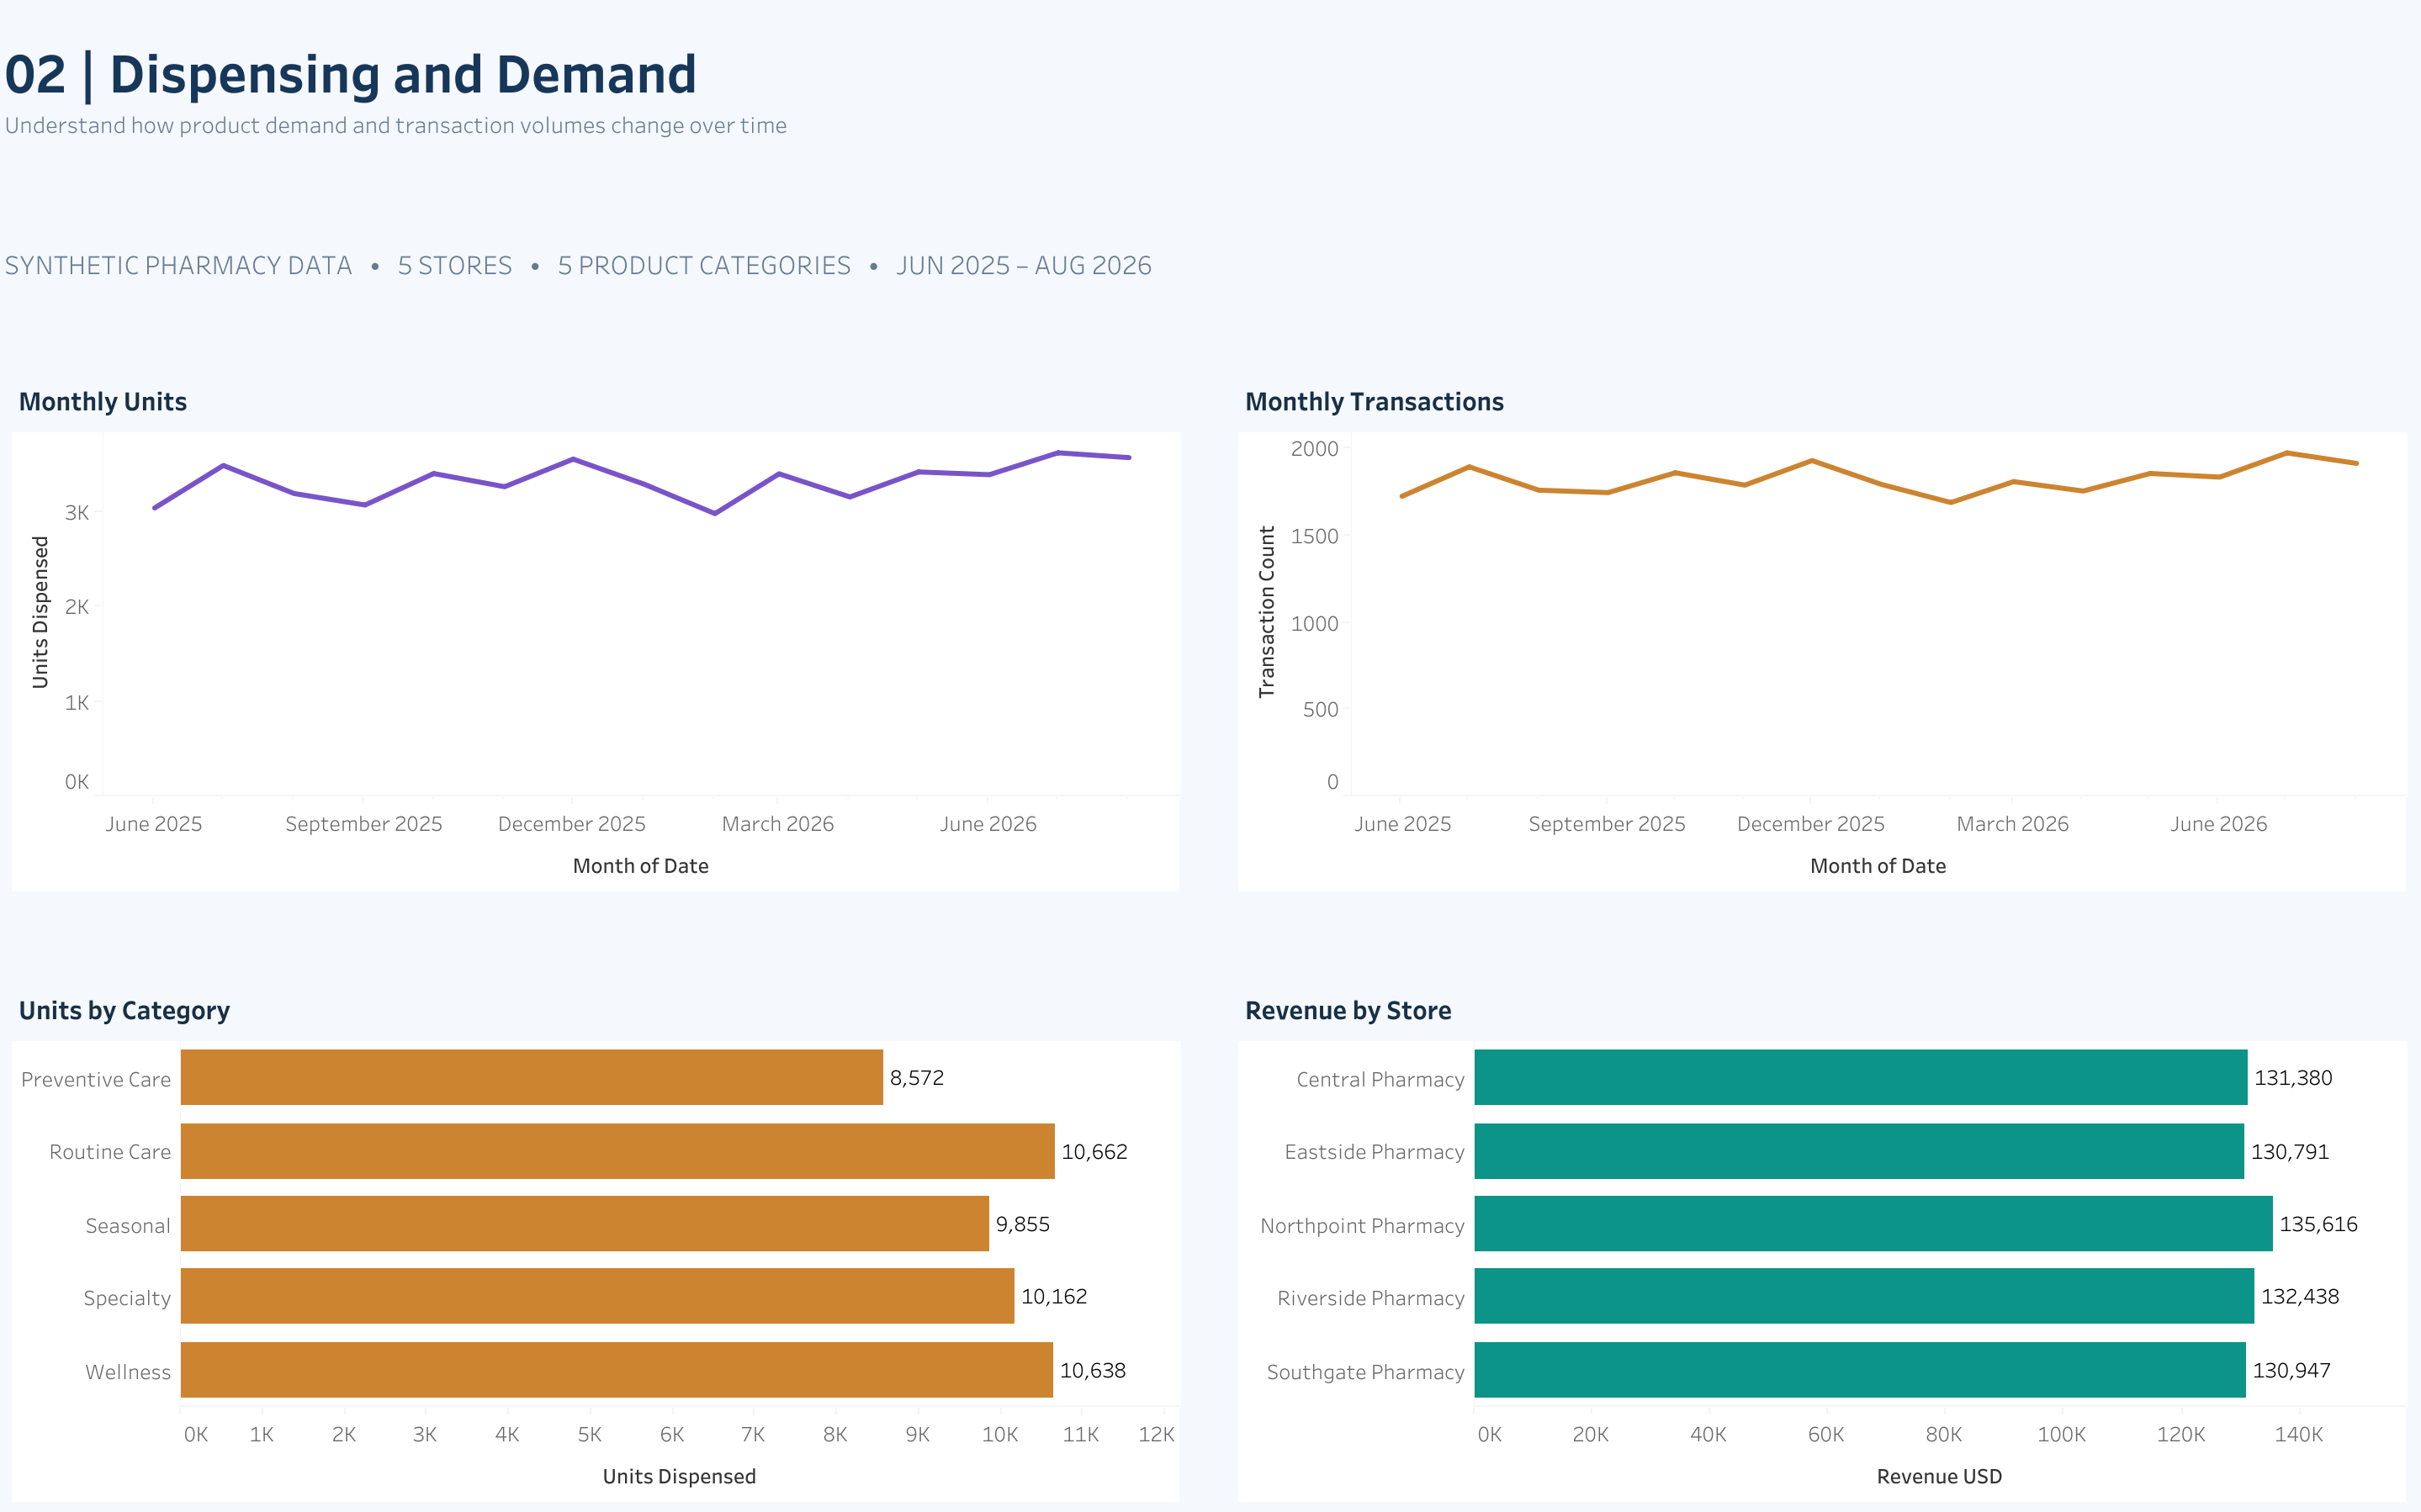

What the dashboard file says about the page in this screenshot:
{"tool":"tableau","page":{"name":"02 | Dispensing and Demand","canvas":[1440,900],"ordinal":1},"visuals":[{"type":"text","box":[0,0,1437,102.9]},{"type":"text","box":[0,130.4,1440,53.9]},{"type":"worksheet","title":"Trend | Monthly Units","mark":"Line","rows":["UnitsDispensed"],"cols":["Date"],"box":[0,213.7,708,323.5]},{"type":"worksheet","title":"Trend | Monthly Transactions","mark":"Line","rows":["TransactionCount"],"cols":["Date"],"box":[729,213.7,708,323.5]},{"type":"worksheet","title":"Categories | Units by Category","mark":"Bar","rows":["ProductCategory"],"cols":["UnitsDispensed"],"box":[0,576.5,708,323.5]},{"type":"worksheet","title":"Stores | Revenue by Store","mark":"Bar","rows":["StoreName"],"cols":["RevenueUSD"],"box":[729,576.5,708,323.5]}]}

Visuals, with their boxes in screenshot pixels (x1, y1, x2, y2), scaled from the page's 1440x900 canvas onto the 2421x1512 screenshot:
text: [0,0,2416,173]
text: [0,219,2420,309]
"Trend | Monthly Units" worksheet (Line marks): [0,359,1190,902]
"Trend | Monthly Transactions" worksheet (Line marks): [1226,359,2416,902]
"Categories | Units by Category" worksheet (Bar marks): [0,969,1190,1511]
"Stores | Revenue by Store" worksheet (Bar marks): [1226,969,2416,1511]
